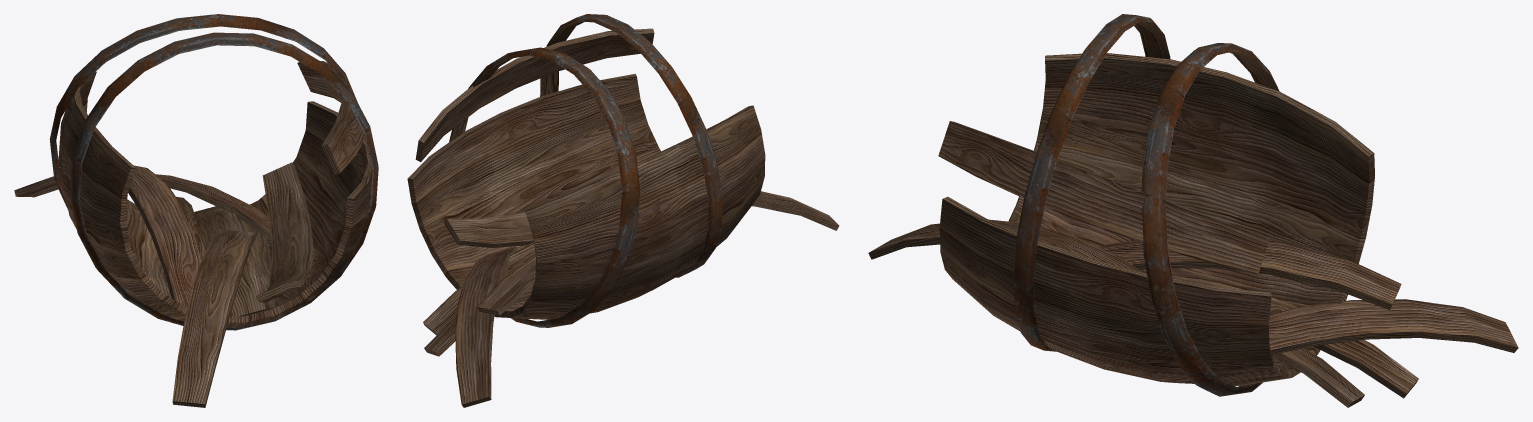
Rendered from storage_barrel_broken_01.fbx.
The picture shows the model from 3 angles, left to right: view 1: azimuth 30°, elevation 25°; view 2: azimuth 150°, elevation 25°; view 3: azimuth 270°, elevation 25°; orthographic projection. The views are drawn at different scales.
Parts seen in each view (by area): view 1: storage_barrel_broken_01; view 2: storage_barrel_broken_01; view 3: storage_barrel_broken_01.
Part boxes in pixels (x1,y1,x2,y2): storage_barrel_broken_01: (14, 14, 378, 407); storage_barrel_broken_01: (407, 14, 839, 407); storage_barrel_broken_01: (868, 14, 1518, 407).
Size of the model in its own units: 96.34 by 86.69 by 155.
